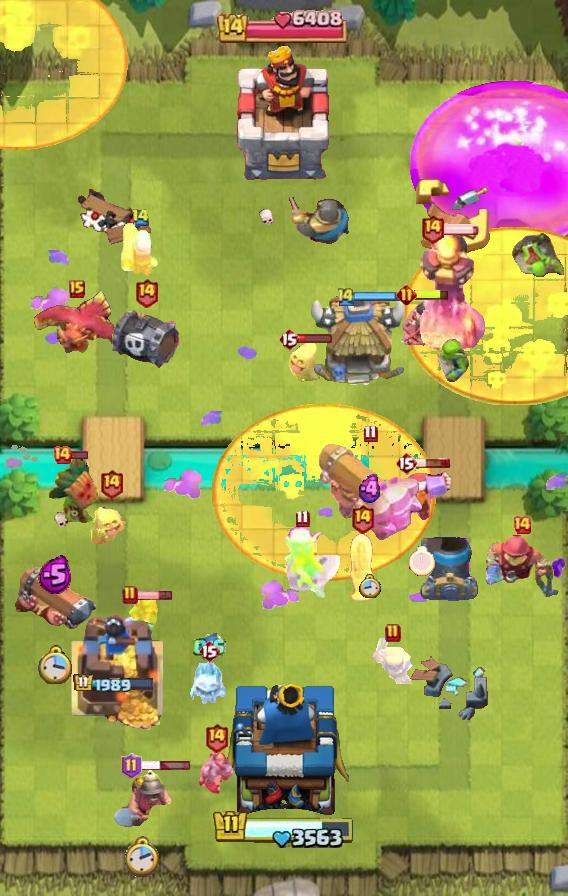arrows: (372, 638, 414, 684)
bandit: (112, 762, 174, 830)
bar-level: (510, 230, 568, 278)
bat: (188, 661, 230, 705)
bat-evolution: (90, 503, 132, 547), (287, 338, 321, 382)
battle-healer: (11, 564, 99, 636)
clock: (212, 809, 356, 851), (217, 9, 351, 43)
electro-dragon: (410, 231, 488, 357)
electro-spirit: (38, 555, 72, 595), (193, 633, 226, 662), (355, 474, 384, 504)
elixir: (125, 836, 161, 879), (39, 644, 74, 683), (409, 546, 435, 576), (359, 574, 381, 598)
emote: (354, 290, 406, 301), (139, 761, 191, 772), (414, 287, 450, 301), (442, 223, 480, 235), (415, 457, 451, 469), (136, 591, 173, 602), (297, 332, 333, 343), (70, 450, 90, 460)
executioner: (346, 530, 378, 604)
fireball: (484, 535, 560, 599)
firecracker: (288, 197, 351, 245)
furnace: (315, 443, 425, 549)
giant-snowball: (129, 592, 161, 632)
goblin-barrel: (47, 455, 105, 525)
king-tower: (219, 678, 349, 826), (230, 43, 338, 181)
knight-evolution: (408, 81, 568, 248)
mighty-miner: (389, 468, 455, 532)
mother-witch: (29, 291, 125, 359)
musketeer: (420, 537, 480, 601)
phoenix-egg: (212, 403, 436, 581), (405, 227, 568, 405), (0, 0, 128, 151)
poison: (262, 521, 342, 601)
prince: (308, 294, 410, 390)
queen-tower: (62, 613, 165, 731)
royal-delivery: (196, 751, 236, 795)
royal-recruit-evolution: (109, 308, 183, 372)
selected: (73, 673, 155, 695)
skeleton-dragon: (396, 296, 446, 350)
text: (419, 212, 444, 243), (133, 277, 158, 308), (99, 469, 124, 500), (204, 723, 229, 754), (350, 503, 375, 533), (121, 753, 142, 779), (278, 327, 300, 351), (395, 451, 417, 475), (198, 639, 220, 663), (396, 283, 417, 305), (336, 285, 356, 307), (52, 445, 72, 465), (512, 515, 532, 535), (130, 209, 150, 228), (122, 585, 138, 605), (385, 623, 401, 643), (69, 280, 85, 298), (362, 425, 377, 443), (295, 509, 309, 527)
tombstone: (119, 220, 161, 278)
zap: (435, 339, 475, 383)
